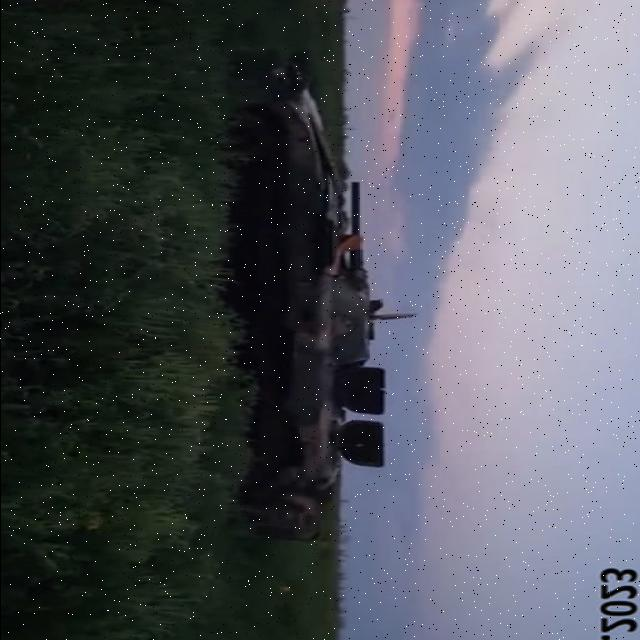APC-IFV: (191, 61, 400, 538)
